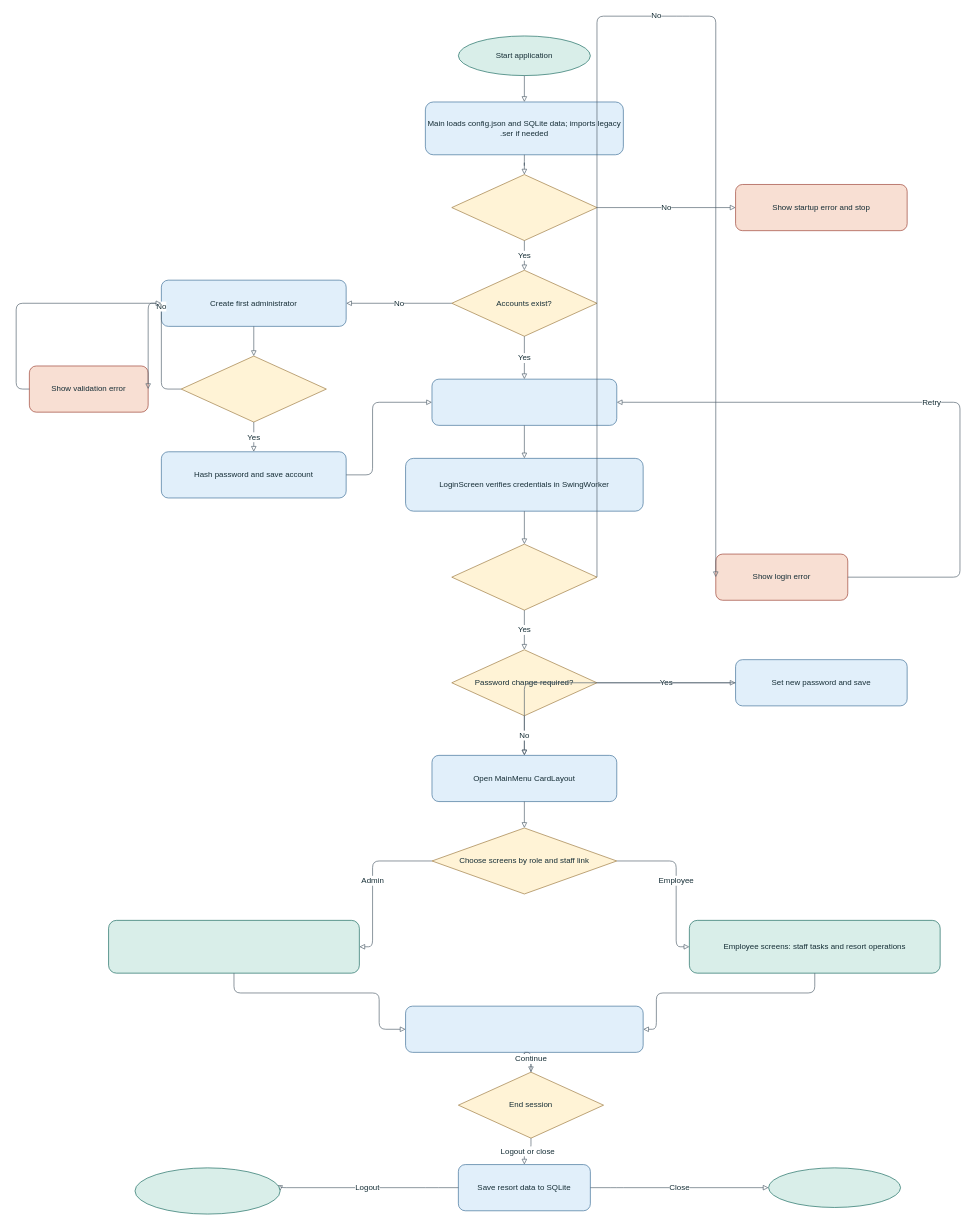
Image size: 977x1226. Some labels were removed from this diagram. Here are the shapes that lost their labels. From the top down, the box of each, then its label:
(451, 174, 597, 241): Data loaded?
(181, 355, 326, 422): Credentials valid?
(431, 379, 617, 425): Display login screen
(451, 544, 597, 610): Credentials accepted?
(108, 920, 359, 973): Admin screens: accounts, staff, rooms, bookings, add-ons
(405, 1006, 643, 1052): Use screens and navigate with CardLayout
(134, 1167, 280, 1214): Return to LoginScreen
(768, 1167, 901, 1207): Application closed
